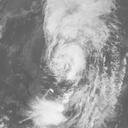cyclone: (49, 44, 85, 84)
